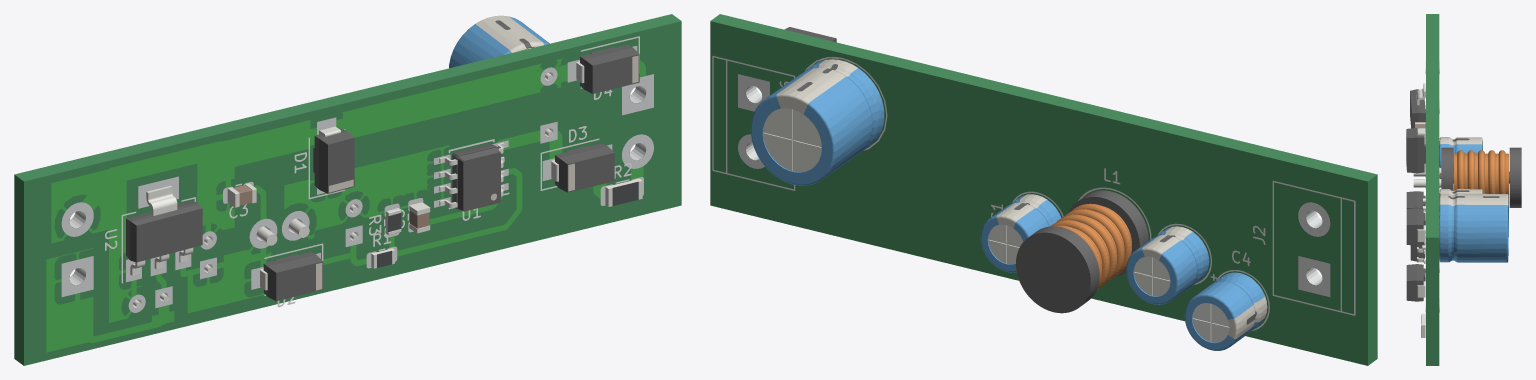
Rendered from pcb.gltf.
3 views of the same model, side by side, from view 1: azimuth 30°, elevation 25°; view 2: azimuth 150°, elevation 25°; view 3: azimuth 270°, elevation 25° (orthographic). The views are drawn at different scales.
Parts seen in each view (by area): view 1: Shape_IndexedFaceSet.760, Shape_IndexedFaceSet.763, Shape_IndexedFaceSet.764, Shape_IndexedFaceSet.105, Shape_IndexedFaceSet.767, Shape_IndexedFaceSet.311, Shape_IndexedFaceSet.649, Shape_IndexedFaceSet.740, Shape_IndexedFaceSet.699, Shape_IndexedFaceSet.604, Shape_IndexedFaceSet.563, Shape_IndexedFaceSet.765 (+1 smaller); view 2: Shape_IndexedFaceSet.760, Shape_IndexedFaceSet.492, Shape_IndexedFaceSet.649, Shape_IndexedFaceSet.766, Shape_IndexedFaceSet.762, Shape_IndexedFaceSet.656, Shape_IndexedFaceSet.651, Shape_IndexedFaceSet.491, Shape_IndexedFaceSet.514, Shape_IndexedFaceSet.438, Shape_IndexedFaceSet.473, Shape_IndexedFaceSet.765 (+14 smaller); view 3: Shape_IndexedFaceSet.760, Shape_IndexedFaceSet.649, Shape_IndexedFaceSet.491, Shape_IndexedFaceSet.473, Shape_IndexedFaceSet.651, Shape_IndexedFaceSet.635, Shape_IndexedFaceSet.561, Shape_IndexedFaceSet.484, Shape_IndexedFaceSet.486, Shape_IndexedFaceSet.641, Shape_IndexedFaceSet.472, Shape_IndexedFaceSet.468 (+27 smaller).
Part boxes in pixels (x1,y1,x2,y2): Shape_IndexedFaceSet.760: (14,14,681,365); Shape_IndexedFaceSet.763: (46,58,645,352); Shape_IndexedFaceSet.764: (61,45,653,312); Shape_IndexedFaceSet.105: (136,208,202,262); Shape_IndexedFaceSet.767: (105,36,639,307); Shape_IndexedFaceSet.311: (463,152,500,211); Shape_IndexedFaceSet.649: (449,16,549,68); Shape_IndexedFaceSet.740: (592,54,639,93); Shape_IndexedFaceSet.699: (567,153,614,192); Shape_IndexedFaceSet.604: (276,261,323,300); Shape_IndexedFaceSet.563: (328,138,354,193); Shape_IndexedFaceSet.765: (69,72,645,308); Shape_IndexedFaceSet.760: (710,14,1377,365); Shape_IndexedFaceSet.492: (1016,233,1090,313); Shape_IndexedFaceSet.649: (767,68,871,178); Shape_IndexedFaceSet.766: (712,56,1355,330); Shape_IndexedFaceSet.762: (738,74,1330,296); Shape_IndexedFaceSet.656: (752,97,832,184); Shape_IndexedFaceSet.651: (778,68,845,101); Shape_IndexedFaceSet.491: (1016,226,1099,313); Shape_IndexedFaceSet.514: (1137,236,1196,298); Shape_IndexedFaceSet.438: (1195,281,1252,346); Shape_IndexedFaceSet.473: (1068,190,1148,276); Shape_IndexedFaceSet.765: (746,86,1322,285); Shape_IndexedFaceSet.760: (1426,14,1439,365); Shape_IndexedFaceSet.649: (1457,204,1506,262); Shape_IndexedFaceSet.491: (1509,147,1521,207); Shape_IndexedFaceSet.473: (1441,147,1453,190); Shape_IndexedFaceSet.651: (1457,193,1506,204); Shape_IndexedFaceSet.635: (1440,204,1448,262); Shape_IndexedFaceSet.561: (1407,137,1417,173); Shape_IndexedFaceSet.484: (1488,150,1495,193); Shape_IndexedFaceSet.486: (1498,150,1505,193); Shape_IndexedFaceSet.641: (1450,205,1455,261); Shape_IndexedFaceSet.472: (1467,150,1474,189); Shape_IndexedFaceSet.468: (1457,150,1464,188).
Bounding box in the file's own units: 0.0614 × 0.0167 × 0.0134.
